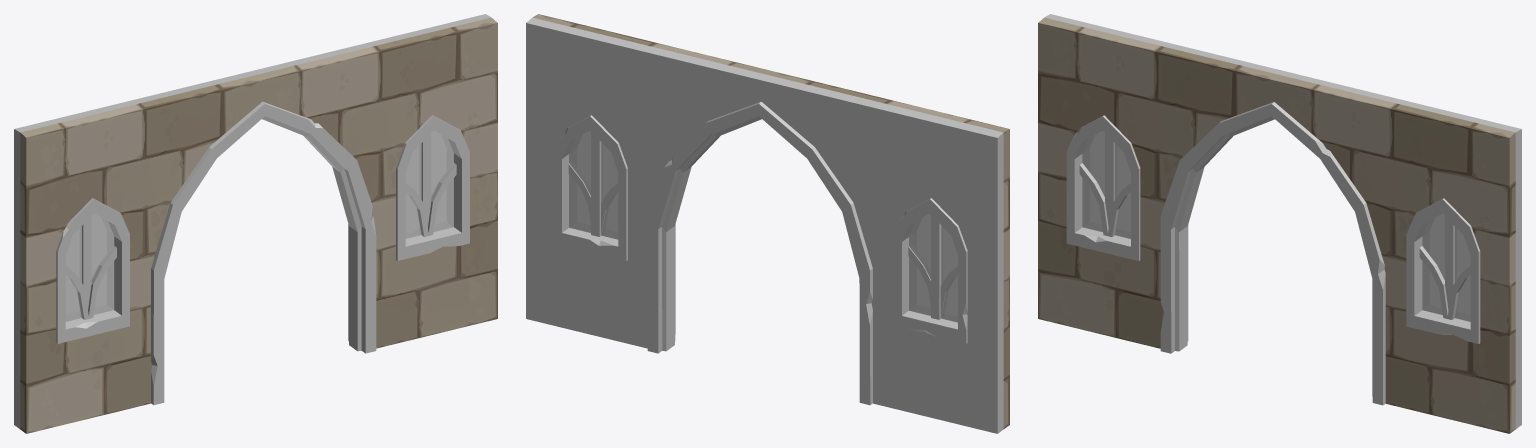
The model's file is SM_Bld_Wall_Doorway_Double_01.fbx.
3 renders of one model, left to right at view 1: azimuth 30°, elevation 25°; view 2: azimuth 150°, elevation 25°; view 3: azimuth 330°, elevation 25°, orthographic.
Visible parts, largest first — view 1: SM_Bld_Wall_Doorway_Double_01, SM_Bld_Wall_Doorway_Double_01_Glass; view 2: SM_Bld_Wall_Doorway_Double_01, SM_Bld_Wall_Doorway_Double_01_Glass; view 3: SM_Bld_Wall_Doorway_Double_01, SM_Bld_Wall_Doorway_Double_01_Glass.
Boxes of the visible parts, x1,y1,x2,y2 form: SM_Bld_Wall_Doorway_Double_01: [14, 14, 497, 433]; SM_Bld_Wall_Doorway_Double_01_Glass: [65, 130, 453, 321]; SM_Bld_Wall_Doorway_Double_01: [526, 14, 1009, 433]; SM_Bld_Wall_Doorway_Double_01_Glass: [569, 130, 957, 322]; SM_Bld_Wall_Doorway_Double_01: [1038, 14, 1521, 433]; SM_Bld_Wall_Doorway_Double_01_Glass: [1082, 130, 1470, 321].
Size of the model in its own units: 500 by 301 by 32.01.
